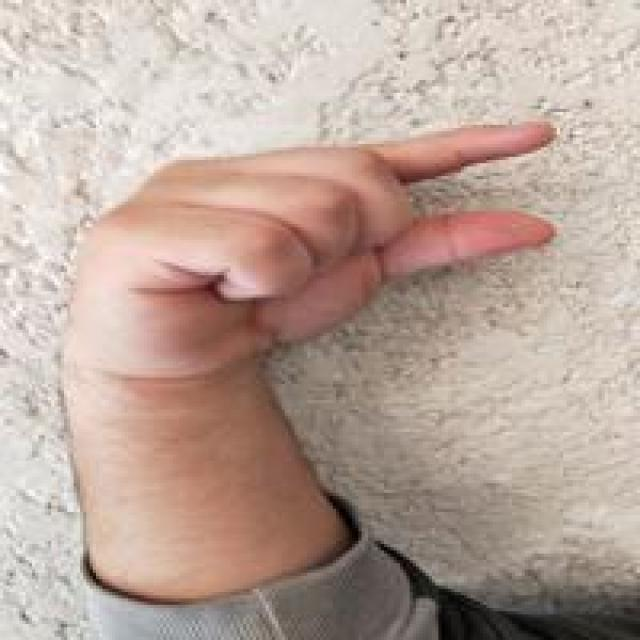G: (69, 108, 562, 426)
